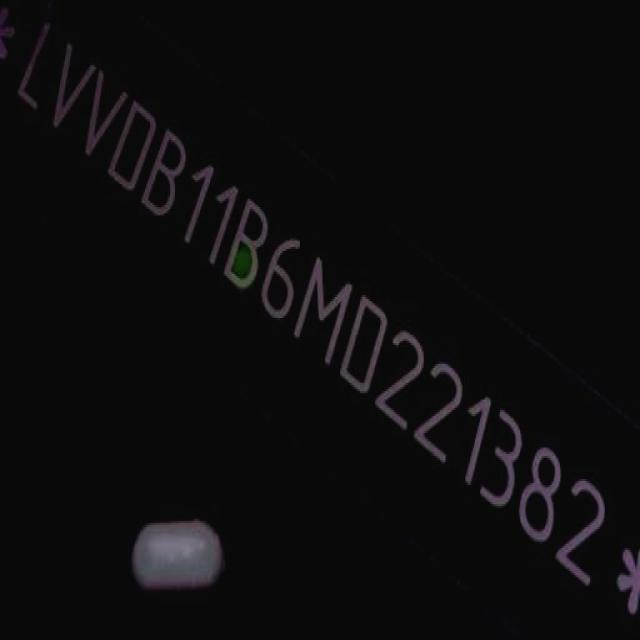1: (198, 167, 246, 270), (453, 379, 495, 494), (173, 150, 222, 248)
2: (411, 341, 474, 468), (552, 465, 612, 594), (372, 315, 431, 437)
3: (475, 400, 532, 515)
6: (256, 213, 312, 334)
8: (509, 433, 575, 556)
B: (137, 119, 199, 225), (222, 189, 280, 301)
D: (335, 283, 395, 403), (102, 85, 163, 201)
L: (13, 10, 65, 116)
M: (289, 245, 361, 366)
V: (72, 55, 133, 171), (39, 29, 101, 142)
